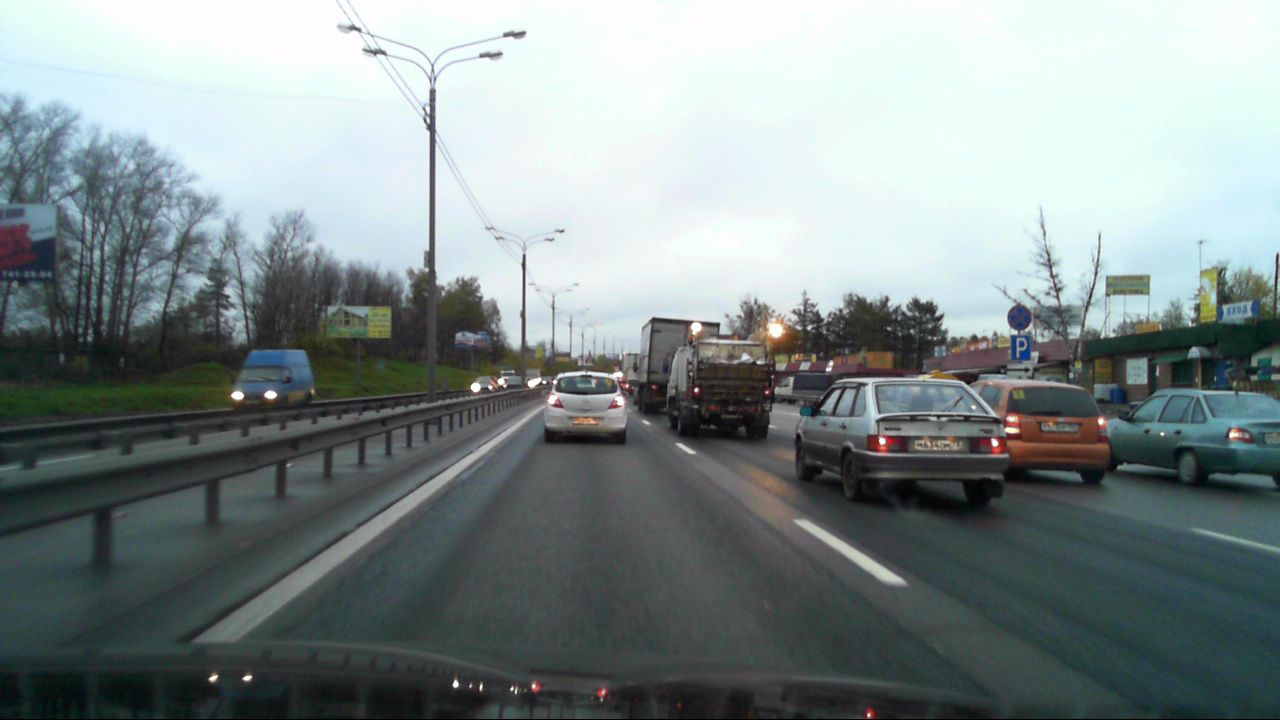No Parking: (1007, 305, 1031, 330)
